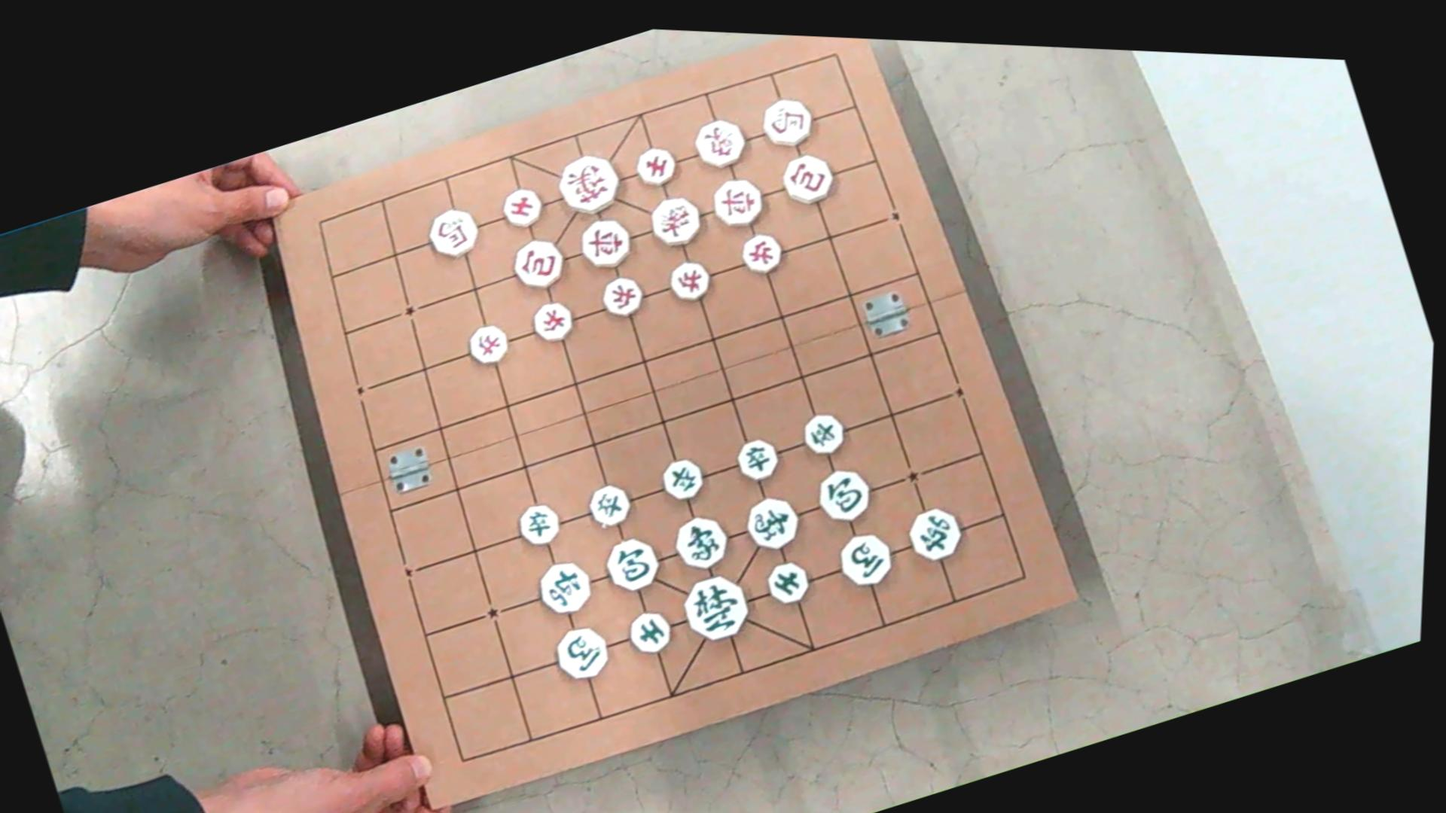cha_green: (531, 554, 597, 621), (902, 502, 966, 567)
cha_red: (573, 212, 637, 276), (706, 172, 768, 233)
jol_green: (583, 479, 636, 532), (731, 433, 783, 486), (798, 407, 850, 460), (513, 498, 564, 552), (657, 454, 708, 506)
jol_red: (735, 227, 787, 279), (664, 255, 715, 306), (596, 271, 647, 321), (462, 320, 512, 370), (528, 296, 577, 346)
ma_green: (550, 620, 615, 687), (832, 528, 897, 592)
ma_red: (421, 202, 484, 264), (756, 91, 818, 153)
po_green: (599, 531, 665, 598), (811, 462, 876, 528)
po_red: (505, 232, 571, 297), (776, 148, 838, 210)
sa_green: (761, 556, 814, 610), (623, 606, 676, 659)
sa_red: (497, 182, 548, 233), (630, 142, 682, 191)
sang_green: (668, 509, 735, 577), (739, 489, 805, 556)
sang_red: (644, 190, 707, 253), (689, 113, 751, 175)
wang_green: (675, 567, 756, 650)
wang_red: (552, 146, 627, 221)
